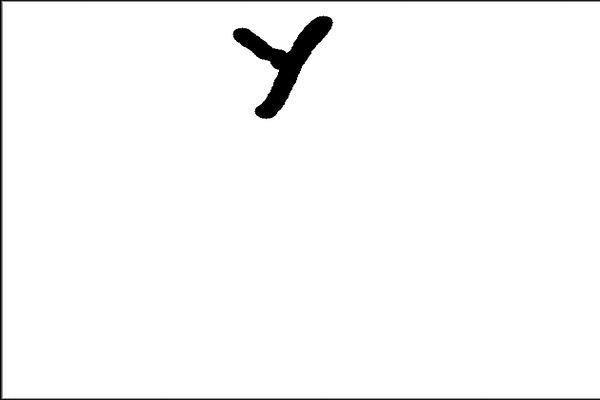Y: (221, 6, 338, 133)
